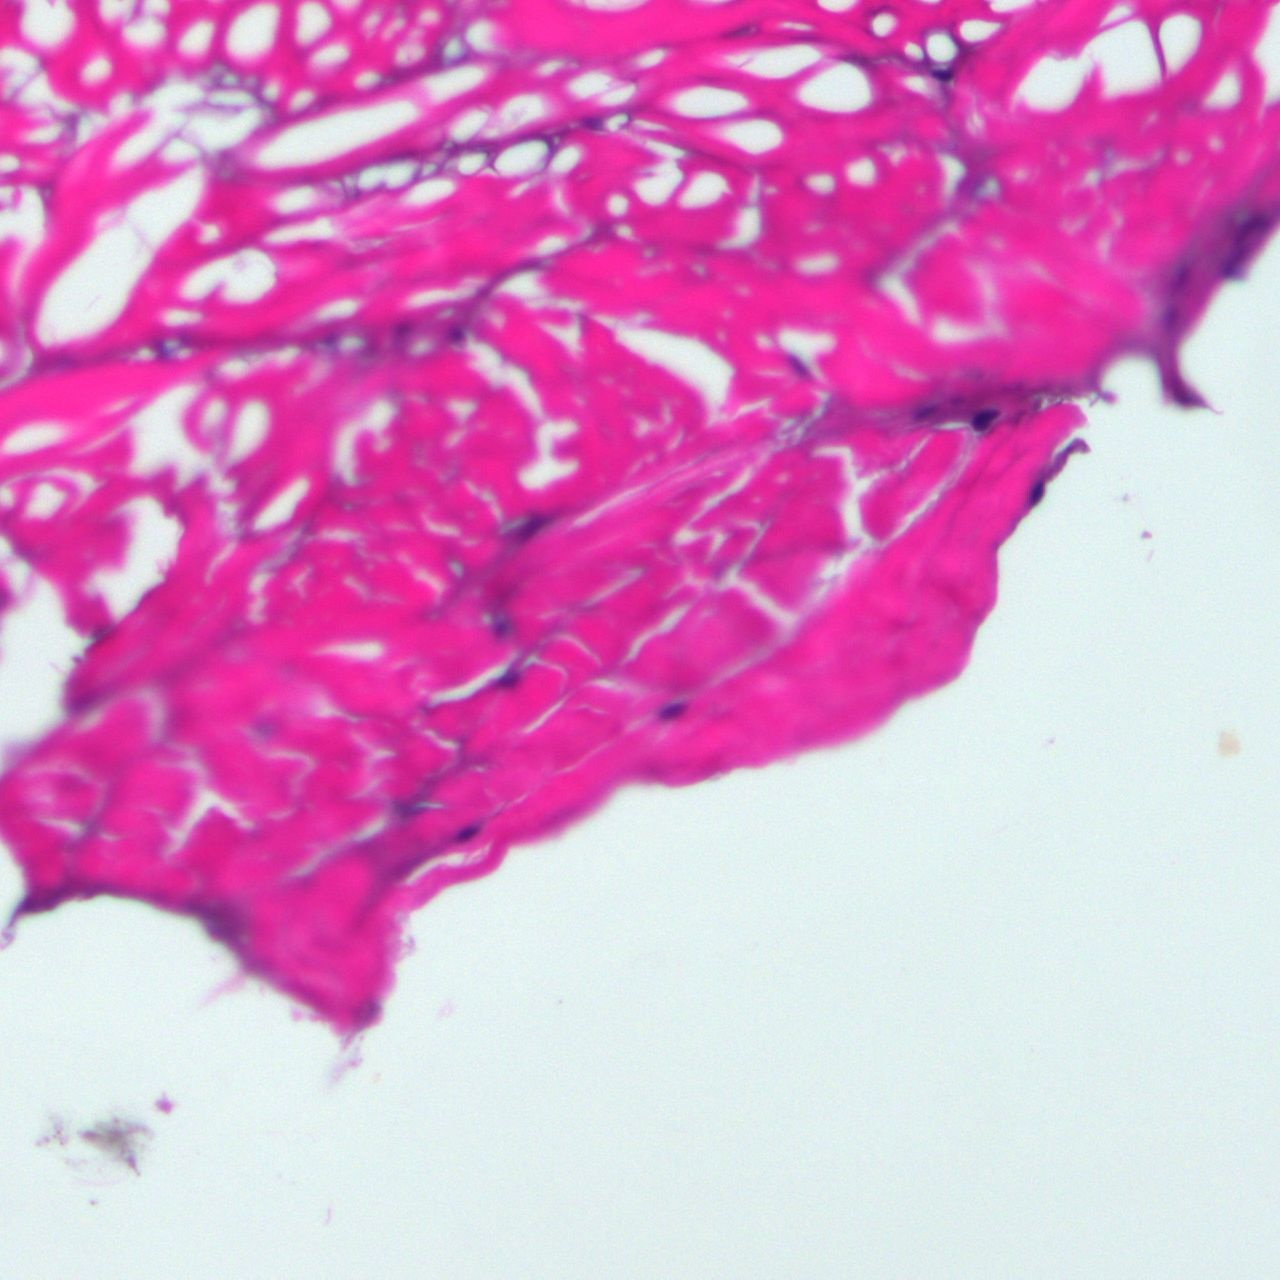nucleus-HE: (967, 403, 998, 435), (659, 700, 682, 719), (457, 825, 476, 840), (932, 69, 952, 79)
